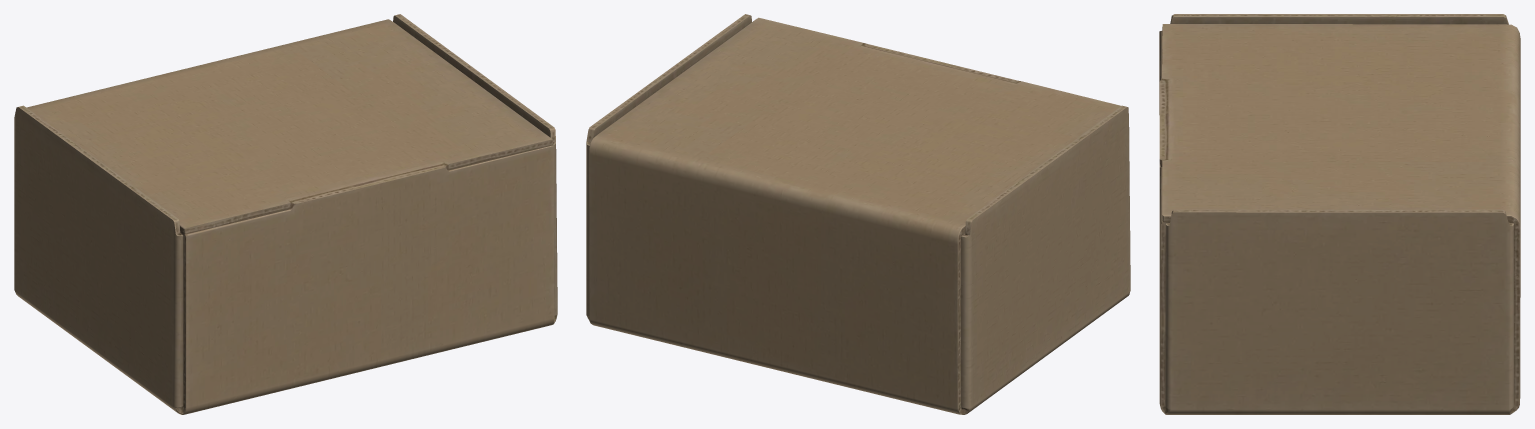
The model's file is box_cardboard_d01.glb.
3 views of the same model, side by side, from view 1: azimuth 30°, elevation 25°; view 2: azimuth 150°, elevation 25°; view 3: azimuth 270°, elevation 25° (orthographic). The views are drawn at different scales.
Parts seen in each view (by area): view 1: sm_box_d01_mesh_00; view 2: sm_box_d01_mesh_00; view 3: sm_box_d01_mesh_00.
Boxes of the visible parts, bbox=[...] form: sm_box_d01_mesh_00: bbox=[14, 14, 557, 414]; sm_box_d01_mesh_00: bbox=[586, 14, 1130, 414]; sm_box_d01_mesh_00: bbox=[1159, 14, 1520, 414].
Bounding box in the file's own units: 0.3448 × 0.1661 × 0.2644.
1 material, 1 textured.
